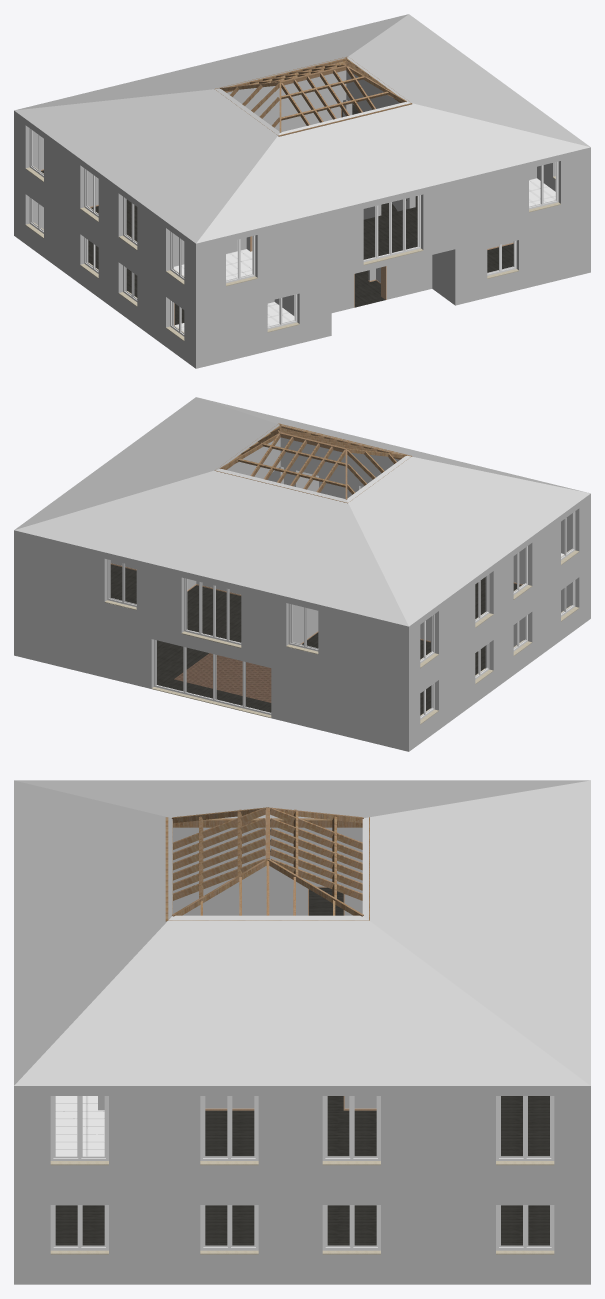
File: Akademik_piętra+dach ex.fbx
3 views of the same model, one above another, from view 1: azimuth 30°, elevation 25°; view 2: azimuth 150°, elevation 25°; view 3: azimuth 270°, elevation 25° (orthographic). The views are drawn at different scales.
Visible parts, largest first — view 1: Model; view 2: Model; view 3: Model.
Boxes of the visible parts, bbox=[...] form: Model: bbox=[14, 14, 590, 368]; Model: bbox=[14, 397, 590, 751]; Model: bbox=[14, 780, 590, 1284].
Bounding box in the file's own units: 19.8 × 9.03 × 15.8.
